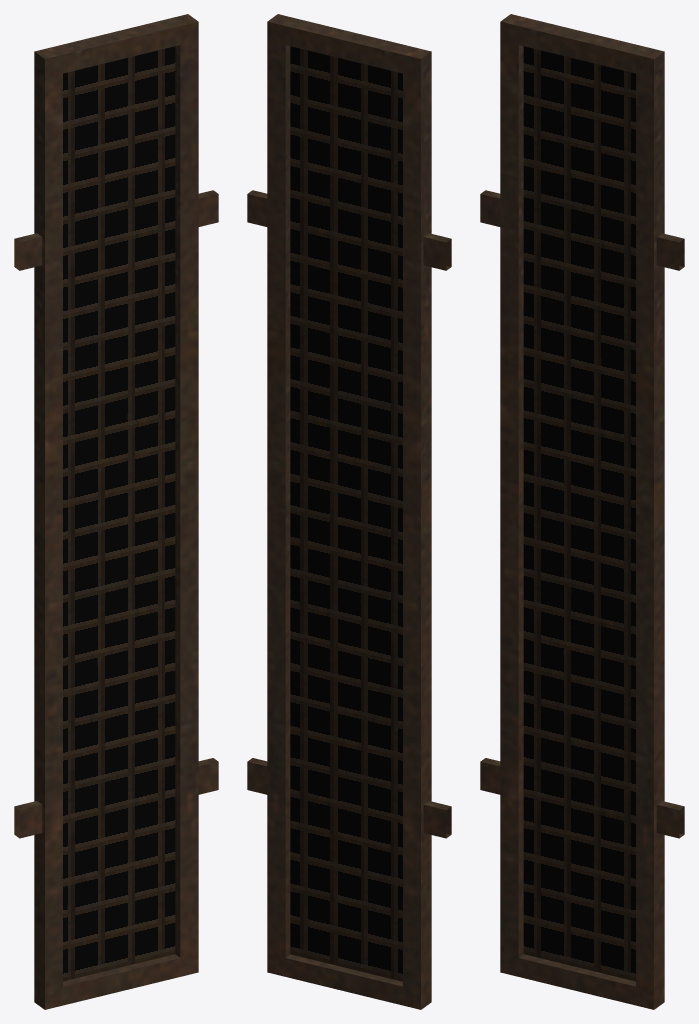
The model's file is fence_e_pillar_1.dae.
3 renders of one model, left to right at view 1: azimuth 30°, elevation 25°; view 2: azimuth 150°, elevation 25°; view 3: azimuth 330°, elevation 25°, orthographic.
Parts seen in each view (by area): view 1: fence_e_pillar_1; view 2: fence_e_pillar_1; view 3: fence_e_pillar_1.
Boxes of the visible parts, x1,y1,x2,y2 form: fence_e_pillar_1: (14,14,218,1009); fence_e_pillar_1: (247,14,451,1009); fence_e_pillar_1: (480,14,684,1009).
Size of the model in its own units: 0.44 by 0.04 by 2.01.
2 materials, 2 textured.
